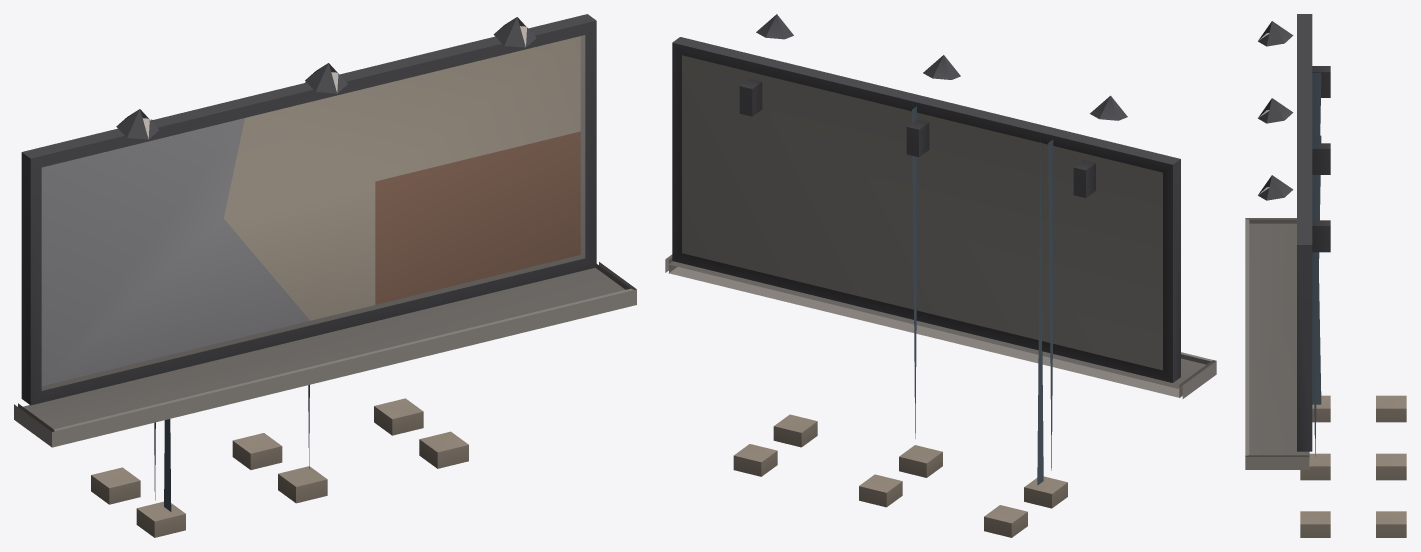
File: billboard.lod.glb
3 views of the same model, side by side, from view 1: azimuth 30°, elevation 25°; view 2: azimuth 150°, elevation 25°; view 3: azimuth 270°, elevation 25° (orthographic). The views are drawn at different scales.
Visible parts, largest first — view 1: billboard; view 2: billboard; view 3: billboard.
Boxes of the visible parts, <box> form: billboard: <box>14,14,636,537</box>; billboard: <box>665,14,1216,537</box>; billboard: <box>1245,14,1406,537</box>.
Size of the model in its own units: 7.44 by 5.46 by 2.12.
